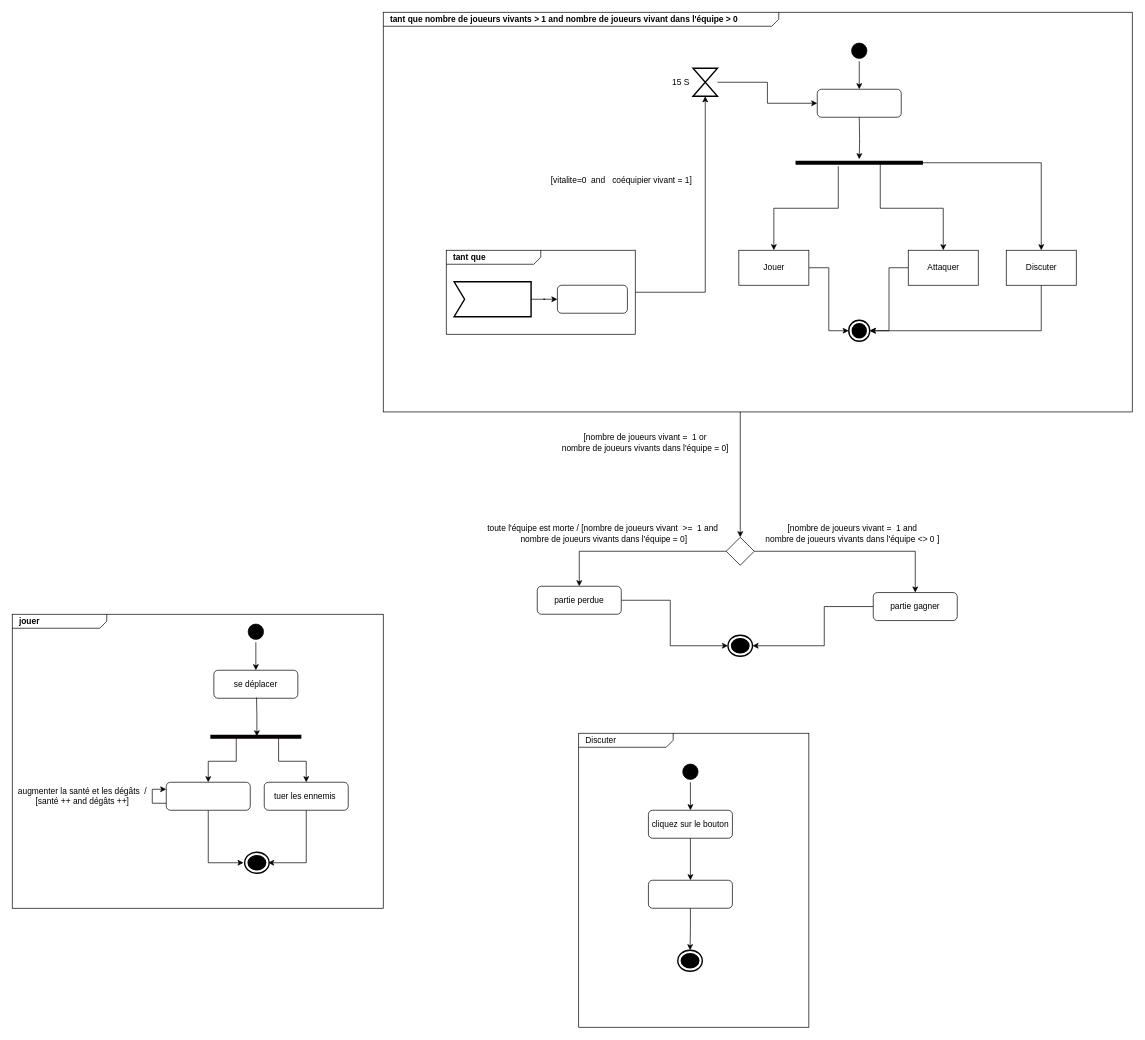
Image size: 1145x1040. Some labels were removed from this diagram. Each missing label, with the centre of its shape:
"baisse de vitalité" goes at point (592, 299).
"choisir émoticon" goes at point (690, 894).
"collecter des cubes de pouvoir" goes at point (208, 796).
"commencer le jeu" goes at point (859, 103).
"reçois attaque" goes at point (492, 299).
